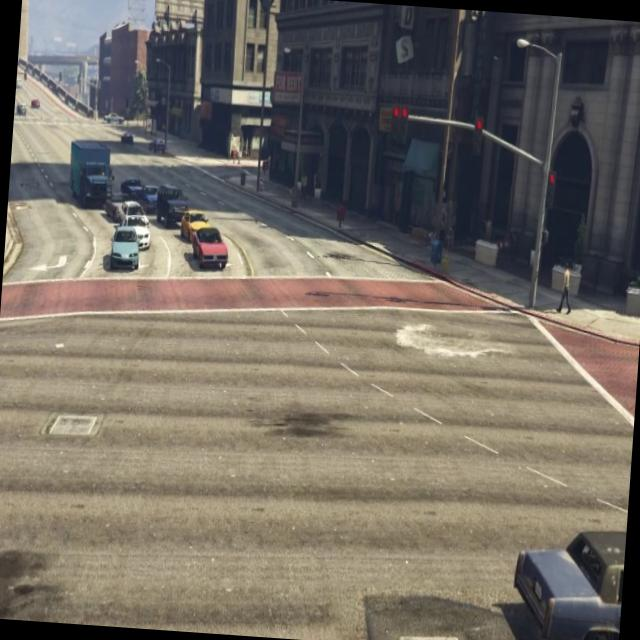Red-Signal: (387, 98, 412, 160), (468, 112, 490, 171), (542, 164, 562, 220)
